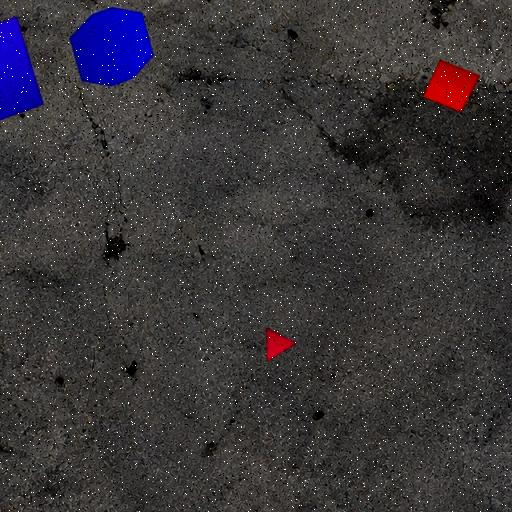BLUE_SQUARE: (0, 15, 44, 138)
RED_SQUARE: (422, 59, 481, 113)
